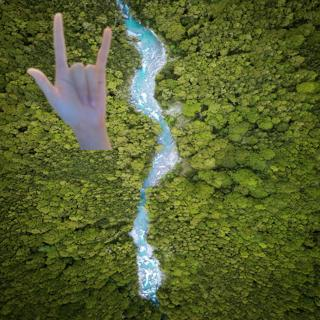ILY: (23, 11, 122, 129)
